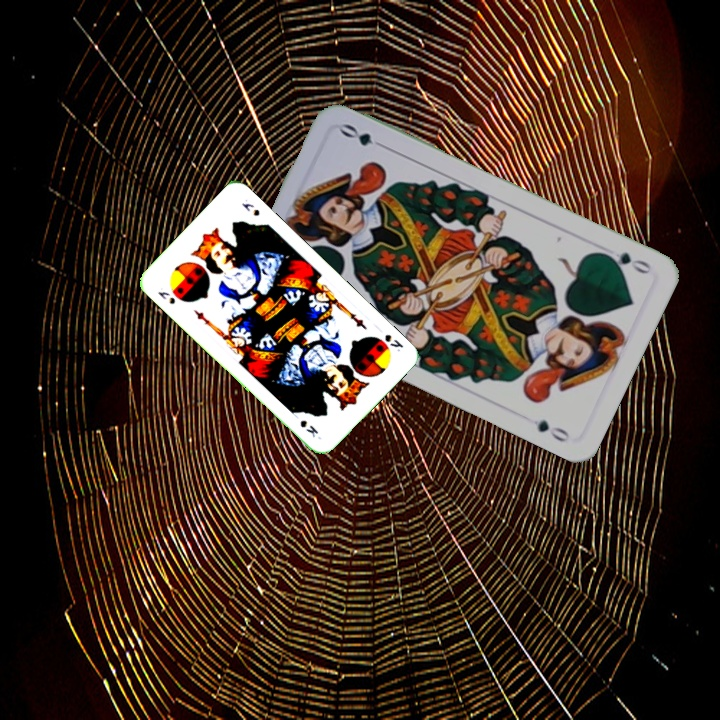GO: (597, 248, 654, 277)
SK: (381, 330, 406, 354), (154, 287, 178, 307)
